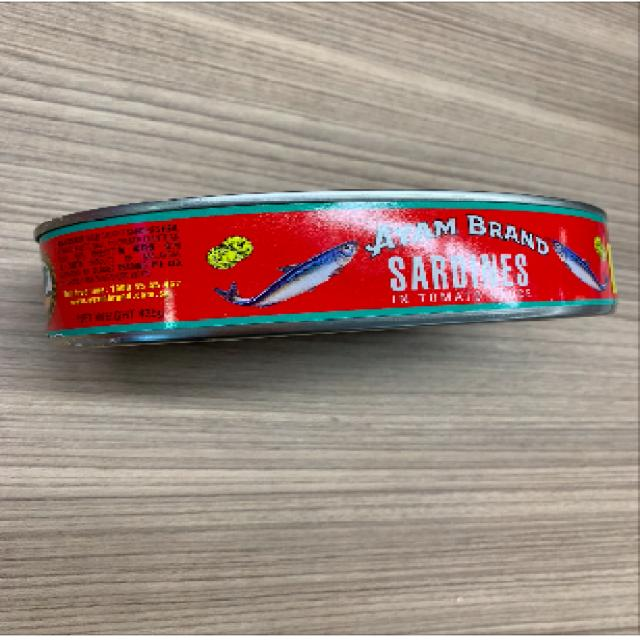object_name: (40, 205, 622, 325)
